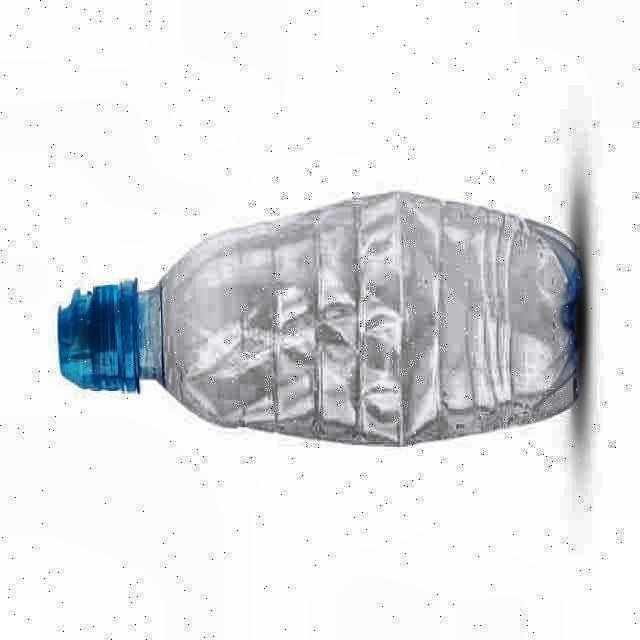plastic: (59, 192, 581, 444)
